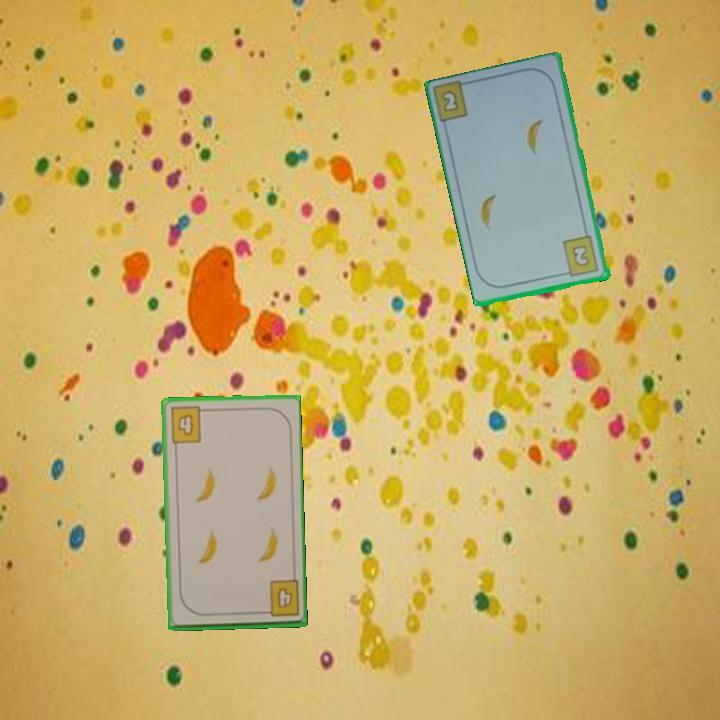2b: (560, 233, 602, 280), (438, 87, 462, 115)
4b: (257, 577, 302, 620), (167, 403, 209, 446)
